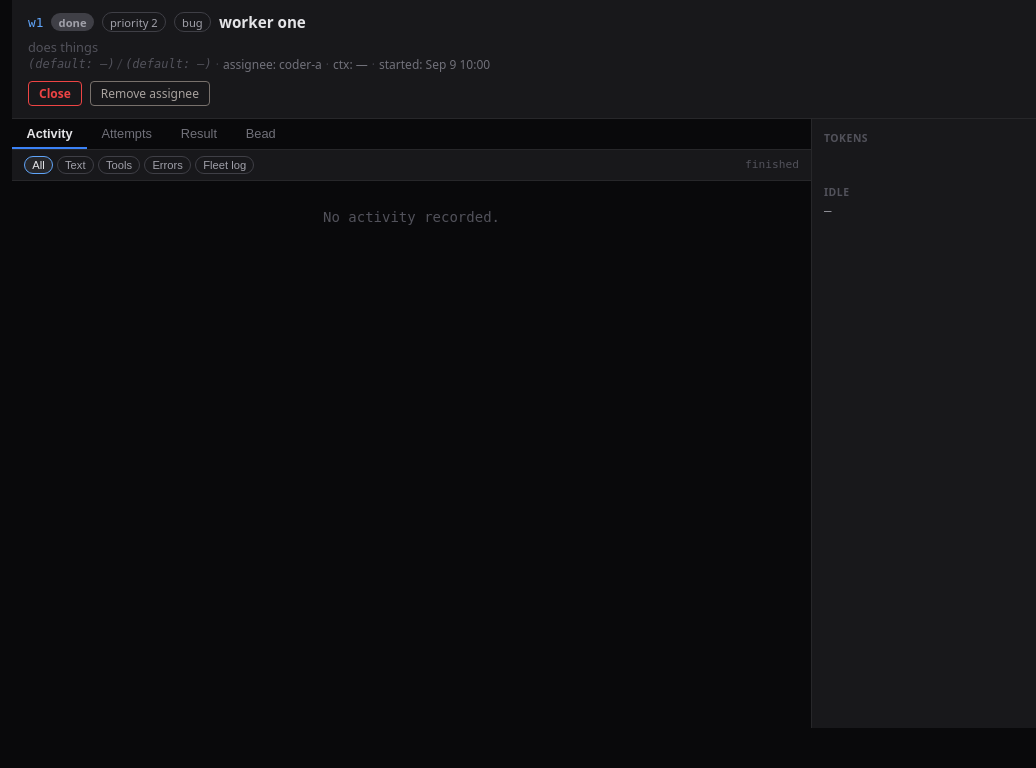
Scenario: TaskDetailPage tabs (ADR 0017) › Result tab renders the bundle
Expected: the text "worker one" is shown, [219,12,306,32]
Click the tab "Result": click(199, 134) [166,119,231,149]
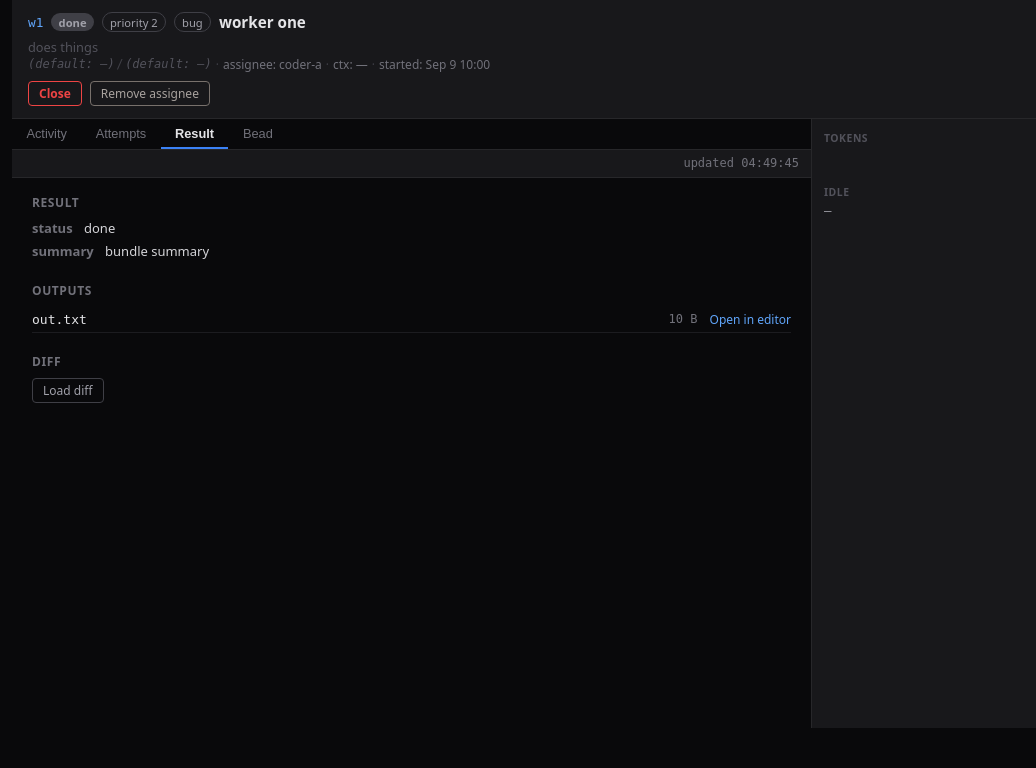
Expected: the heading "Result" is shown, [32,194,79,211]
Expected: the text "bundle summary" is shown, [105,242,209,260]
Expected: the text "out.txt" is shown, [32,312,87,327]
